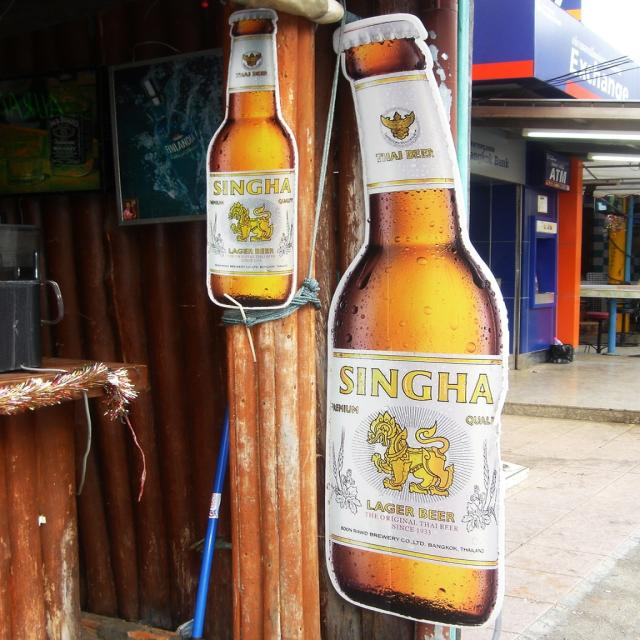singha: (326, 350, 509, 569), (205, 172, 297, 277)
